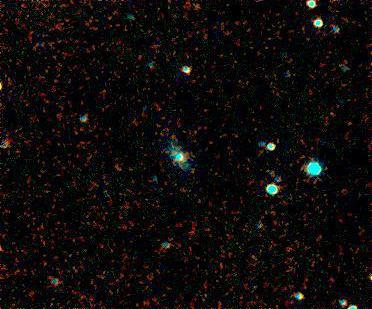star: (0, 73, 20, 103)
